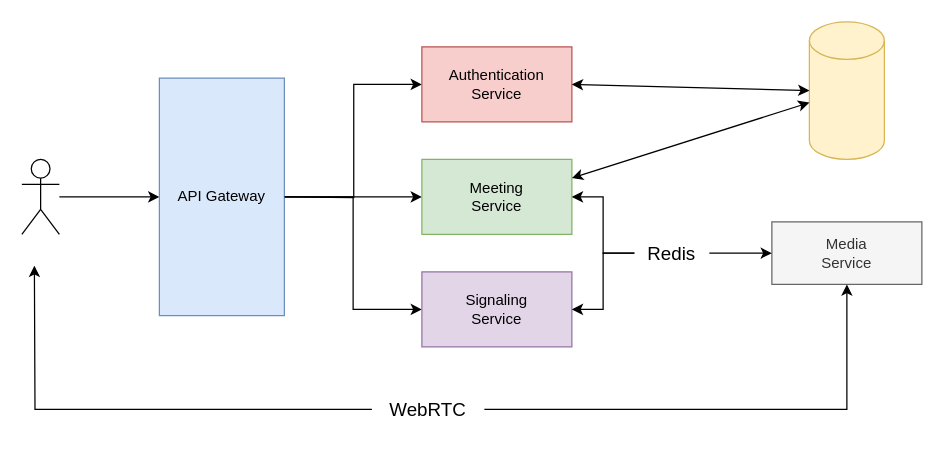
This 944x463 diagram has some shape labels left out. The box of each missing label's shape, as (x1, y1, x2, y2) in pixels:
Actor: (21, 158, 59, 234)
DB: (808, 21, 884, 159)
